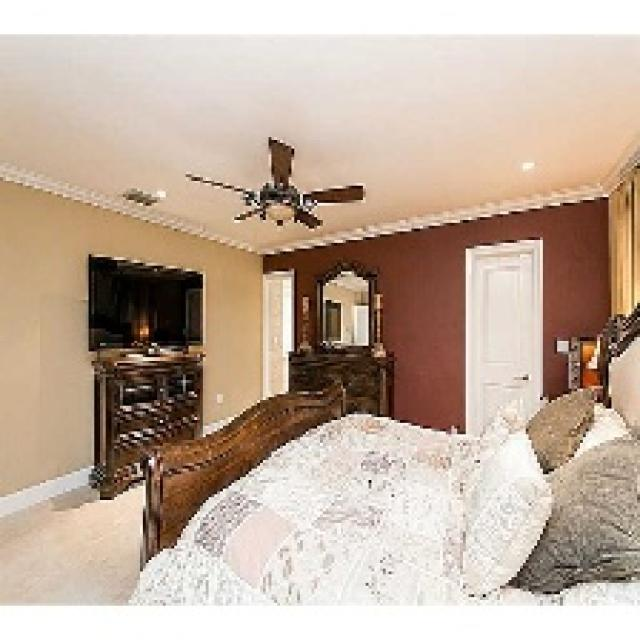Bed: (126, 291, 637, 606)
